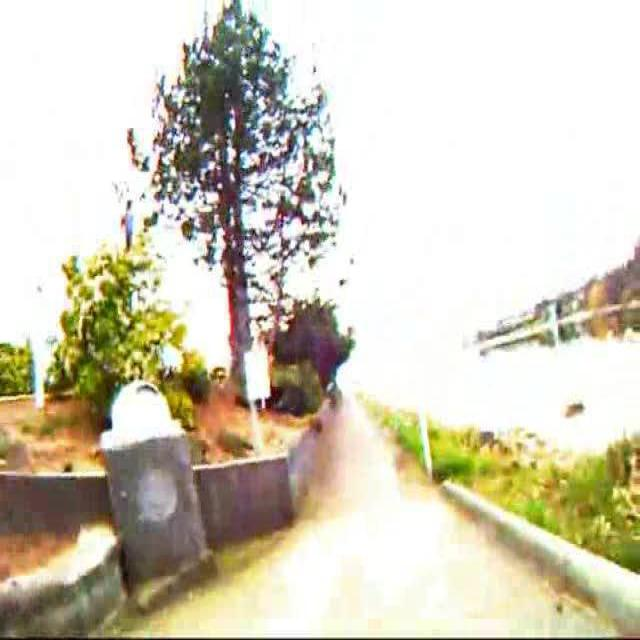other: (98, 382, 196, 471)
